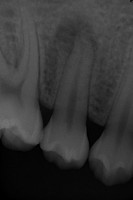Furcation Involvement: (53, 16, 100, 55)
